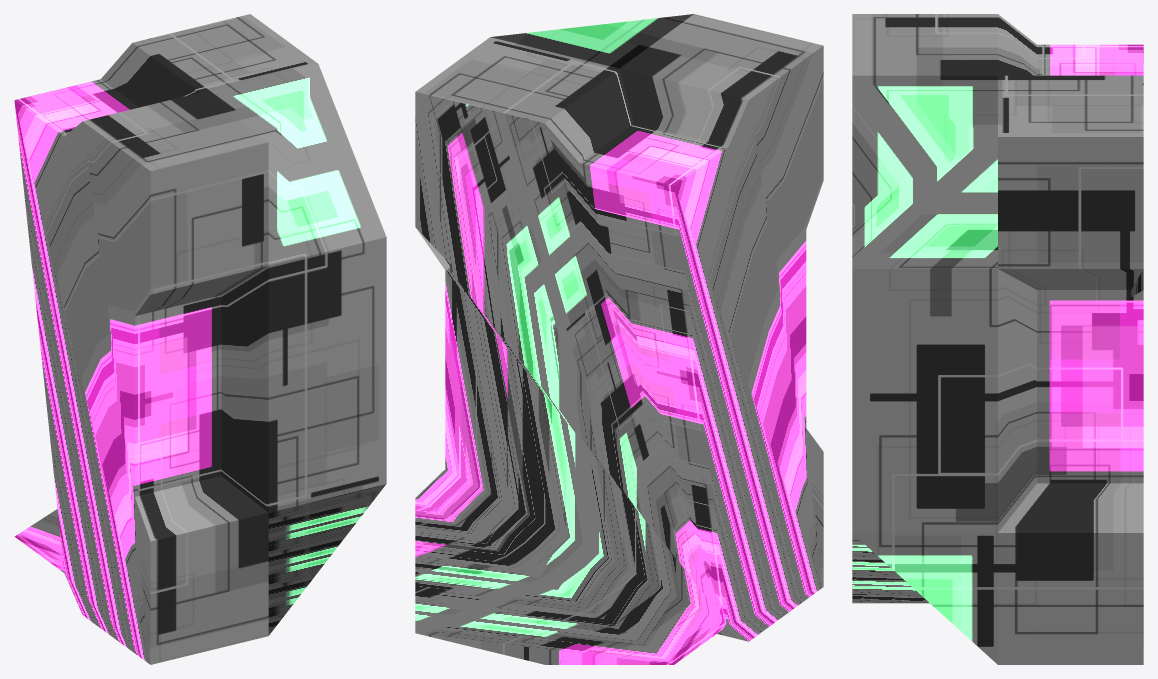
Rendered from quater_core_cube_enemy.fbx.
3 views of the same model, side by side, from view 1: azimuth 30°, elevation 25°; view 2: azimuth 150°, elevation 25°; view 3: azimuth 270°, elevation 25° (orthographic). The views are drawn at different scales.
Parts seen in each view (by area): view 1: polySurface19; view 2: polySurface19; view 3: polySurface19.
Boxes of the visible parts, x1,y1,x2,y2 form: polySurface19: (14, 14, 386, 664); polySurface19: (415, 14, 823, 664); polySurface19: (852, 14, 1143, 664).
Bounding box in the file's own units: 0.5 × 1 × 0.5.
